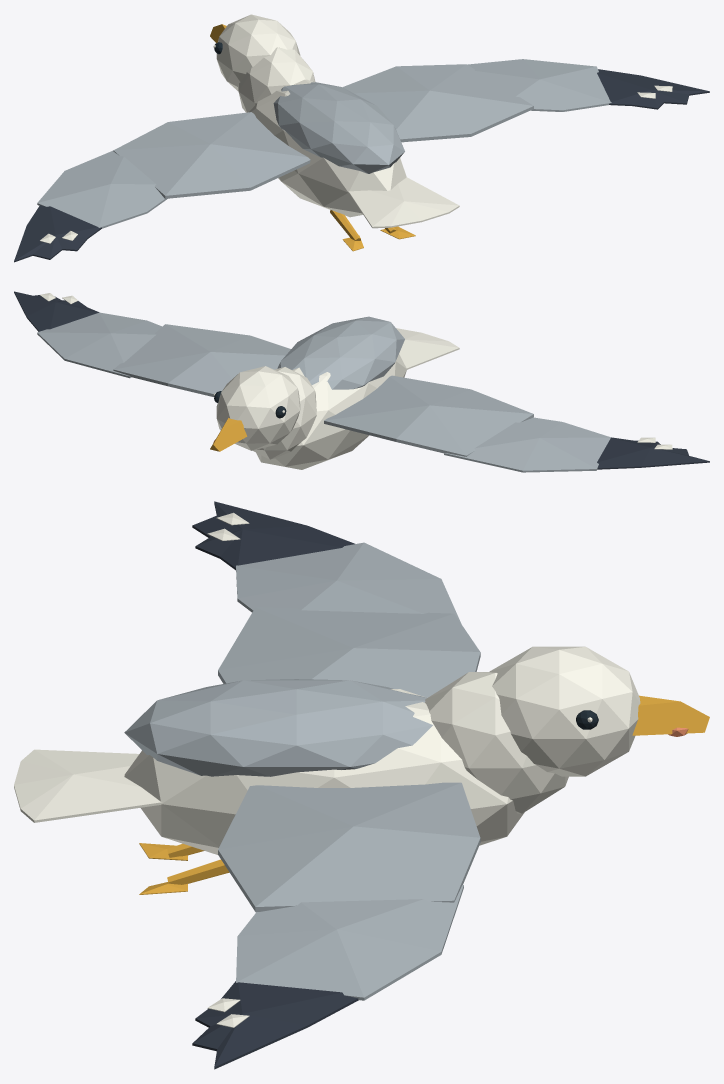
The model's file is wild_bird.glb.
The picture shows the model from 3 angles, top to bottom: view 1: azimuth 30°, elevation 25°; view 2: azimuth 150°, elevation 25°; view 3: azimuth 270°, elevation 25°; orthographic projection. The views are drawn at different scales.
Parts seen in each view (by area): view 1: streamlined white body, grey inner wing, grey inner wing.001, grey swept hand wing, grey swept hand wing.001, plain white head, white rounded tail; view 2: streamlined white body, grey inner wing, grey swept hand wing, grey inner wing.001, grey swept hand wing.001, plain white head, white rounded tail; view 3: streamlined white body, grey inner wing.001, grey swept hand wing.001, grey inner wing, plain white head, grey swept hand wing, white rounded tail.
Part boxes in pixels (left/top/right/bottom): streamlined white body: left=238, top=47, right=415, bottom=251; grey inner wing: left=113, top=112, right=310, bottom=198; grey inner wing.001: left=342, top=64, right=533, bottom=142; grey swept hand wing: left=14, top=150, right=167, bottom=262; grey swept hand wing.001: left=467, top=59, right=709, bottom=111; plain white head: left=210, top=14, right=300, bottom=91; white rounded tail: left=348, top=177, right=459, bottom=228; streamlined white body: left=253, top=316, right=406, bottom=469; grey inner wing: left=324, top=375, right=533, bottom=456; grey swept hand wing: left=444, top=417, right=709, bottom=472; grey inner wing.001: left=113, top=324, right=290, bottom=396; grey swept hand wing.001: left=14, top=291, right=162, bottom=378; plain white head: left=210, top=366, right=300, bottom=451; white rounded tail: left=396, top=328, right=459, bottom=369; streamlined white body: left=124, top=672, right=568, bottom=894; grey inner wing.001: left=218, top=782, right=480, bottom=912; grey swept hand wing.001: left=192, top=885, right=463, bottom=1069; grey inner wing: left=218, top=607, right=480, bottom=697; plain white head: left=489, top=646, right=709, bottom=776; grey swept hand wing: left=192, top=501, right=461, bottom=623; white rounded tail: left=14, top=749, right=162, bottom=822.
Size of the model in its own units: 1.79 by 0.3302 by 0.928.
